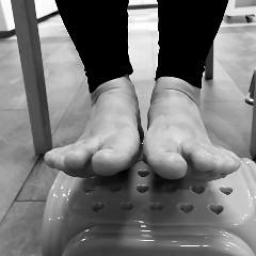Front View -Both Feet-: (26, 61, 250, 205)
